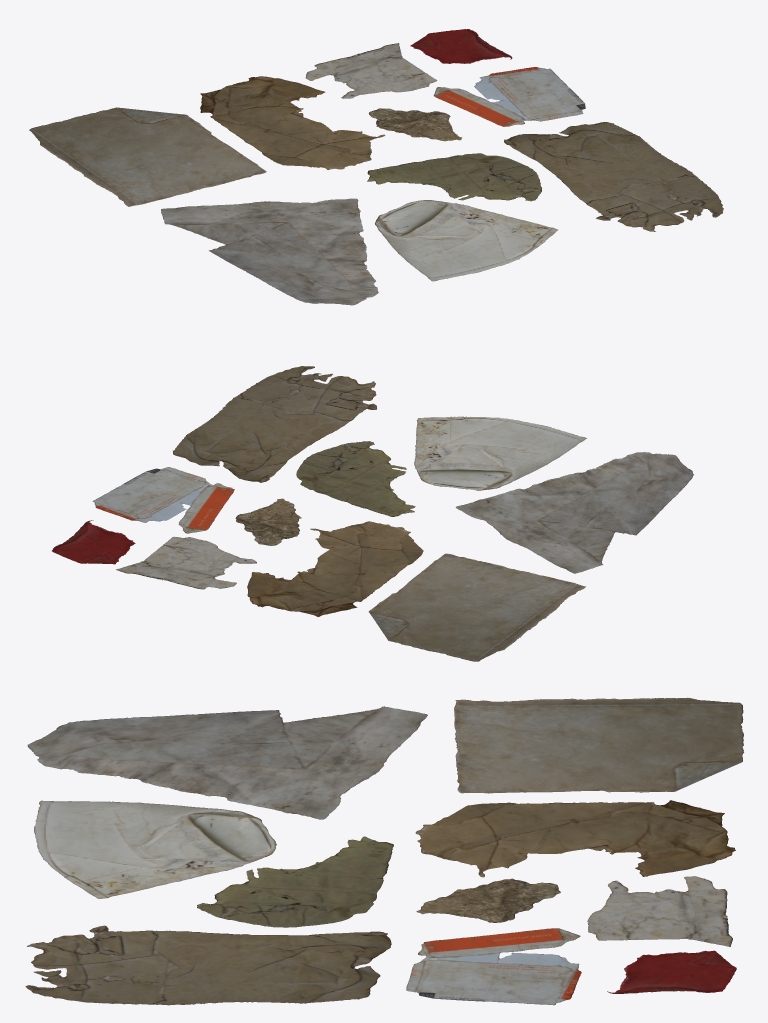
File: rubbish.fbx
3 views of the same model, one above another, from view 1: azimuth 30°, elevation 25°; view 2: azimuth 150°, elevation 25°; view 3: azimuth 270°, elevation 25° (orthographic). The views are drawn at different scales.
Visible parts, largest first — view 1: 7, 1, 10, 8, 2, 6, 9, 3, 4, 5; view 2: 7, 1, 10, 8, 2, 6, 9, 3, 4, 5; view 3: 7, 1, 10, 8, 2, 6, 9, 3, 4, 5.
Part boxes in pixels (left/top/right/bottom): 7: left=161, top=198, right=378, bottom=305; 1: left=29, top=107, right=266, bottom=206; 10: left=504, top=122, right=723, bottom=231; 8: left=375, top=200, right=557, bottom=281; 2: left=200, top=76, right=385, bottom=169; 6: left=433, top=67, right=585, bottom=126; 9: left=367, top=153, right=541, bottom=201; 3: left=305, top=43, right=437, bottom=98; 4: left=410, top=29, right=512, bottom=63; 5: left=369, top=108, right=462, bottom=141; 7: left=455, top=452, right=693, bottom=573; 1: left=368, top=553, right=585, bottom=661; 10: left=173, top=366, right=376, bottom=482; 8: left=414, top=416, right=586, bottom=490; 2: left=247, top=521, right=423, bottom=616; 6: left=92, top=467, right=234, bottom=533; 9: left=296, top=441, right=415, bottom=516; 3: left=116, top=536, right=256, bottom=589; 4: left=52, top=520, right=135, bottom=564; 5: left=235, top=498, right=301, bottom=545; 7: left=27, top=706, right=427, bottom=819; 1: left=454, top=697, right=743, bottom=793; 10: left=25, top=925, right=391, bottom=1005; 8: left=34, top=800, right=276, bottom=898; 2: left=415, top=800, right=735, bottom=877; 6: left=406, top=928, right=581, bottom=1005; 9: left=197, top=836, right=393, bottom=927; 3: left=587, top=876, right=732, bottom=946; 4: left=607, top=950, right=736, bottom=993; 5: left=416, top=878, right=560, bottom=922.
Bounding box in the file's own units: 100 × 3.55e-15 × 100.
